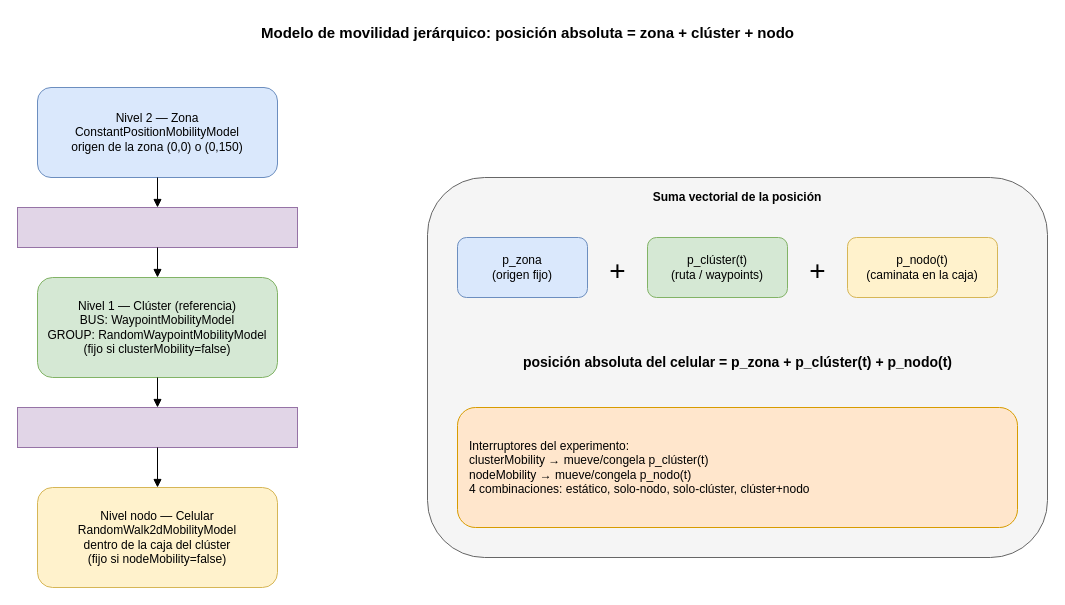
The diagram is 1065 pixels wide and 605 high, and some of its shapes have lost their labels. Here are the shapes that lost their labels. From the top down, the centre of each, then its label:
the point at 157,227: HierarchicalMobilityModel SetParent(zona) · SetChild(mov. clúster)
the point at 157,427: HierarchicalMobilityModel SetParent(ref. clúster) · SetChild(mov. nodo)
